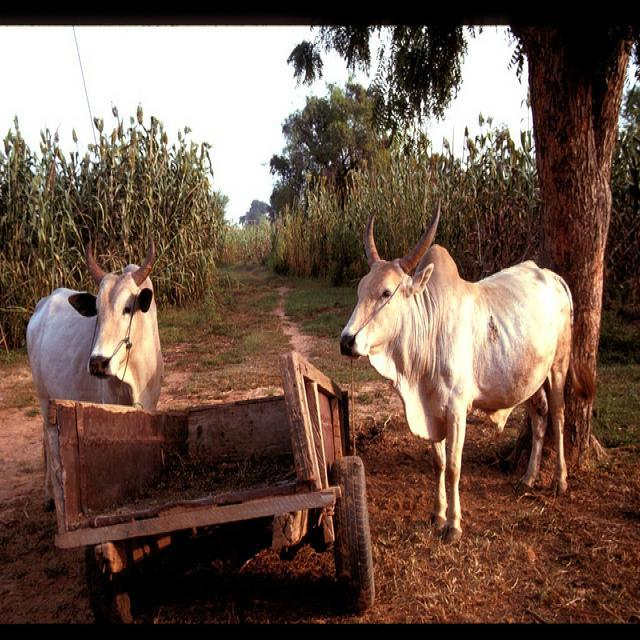cow: (341, 205, 573, 543), (24, 231, 163, 484)
